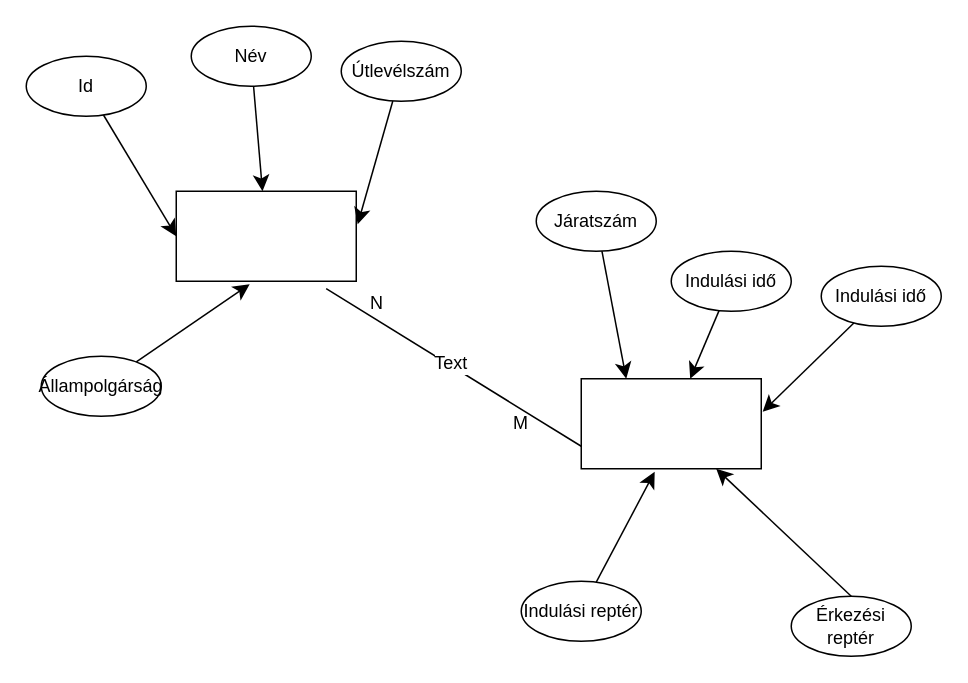
This 968x683 diagram has some shape labels left out. Each missing label, with the centre of its shape:
"Járat" belongs at point (670, 423).
"Utasok" belongs at point (265, 235).
